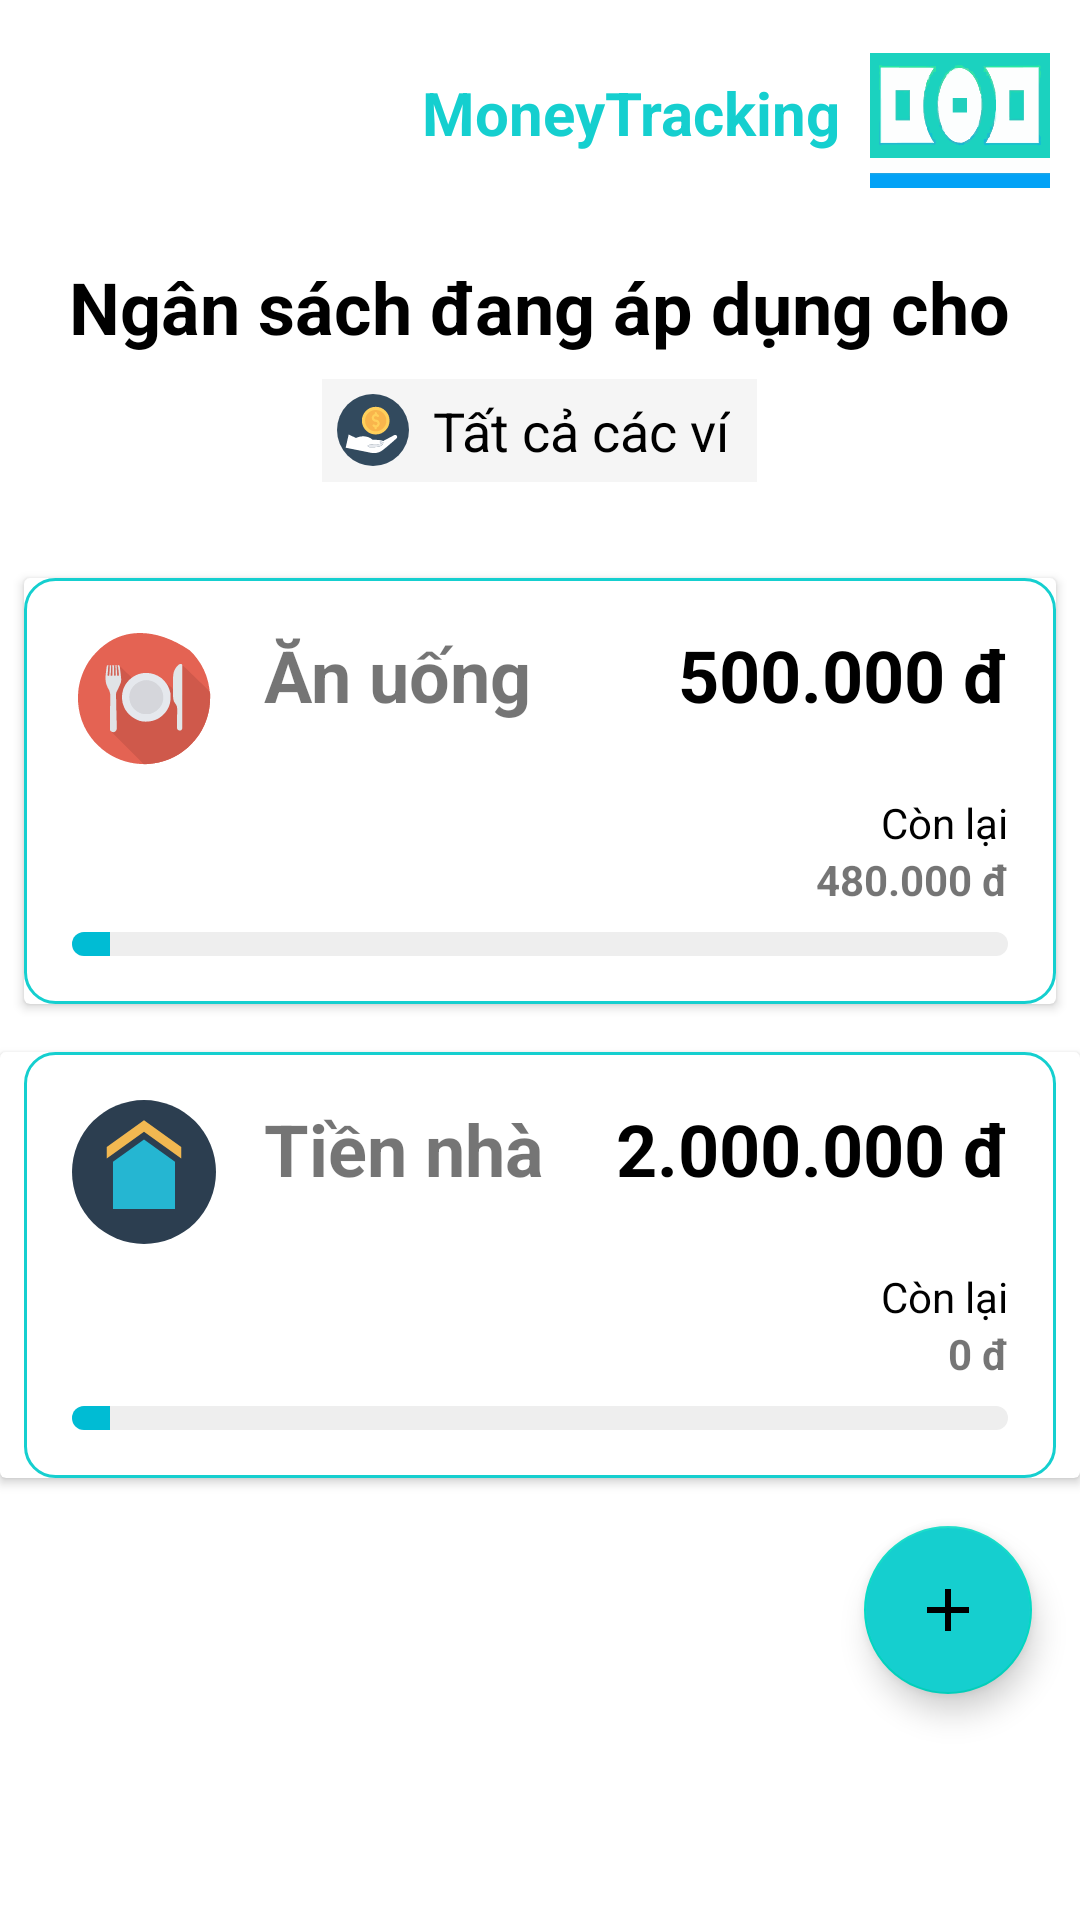

Icons on this 1080x1920 Android screen, each with its box as (x1, y1, x2, y2):
add: (864, 1526, 1032, 1694)
allwallet: (337, 394, 409, 466)
Food icon: (78, 633, 211, 765)
Home icon: (72, 1100, 216, 1244)
